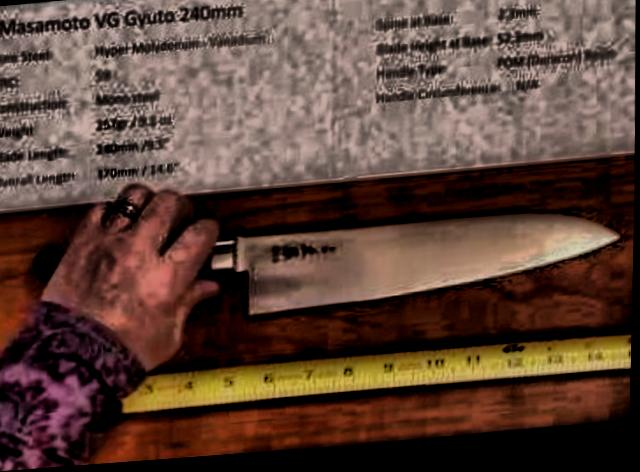knife: (115, 144, 627, 334)
